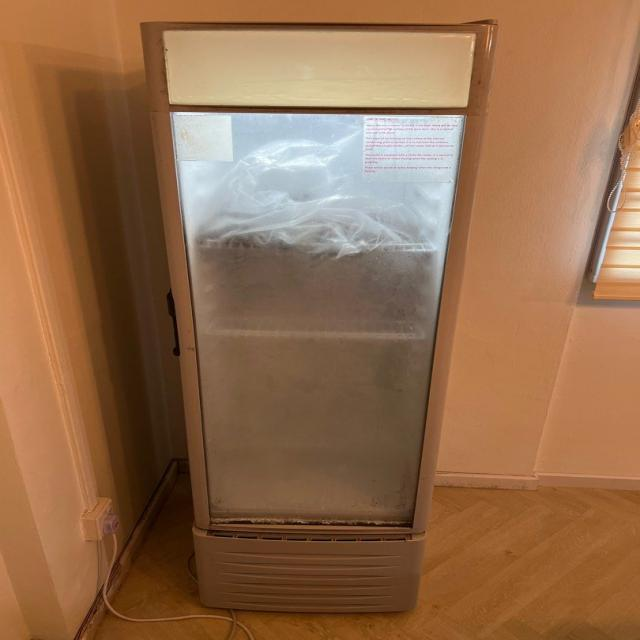refrigerator: (141, 20, 497, 618)
